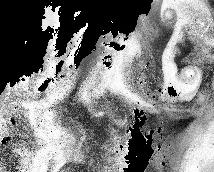CE: (178, 65, 203, 92), (161, 5, 182, 29)
